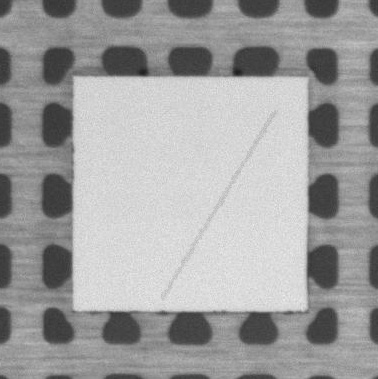DIE_CRACK: (162, 111, 274, 300)
